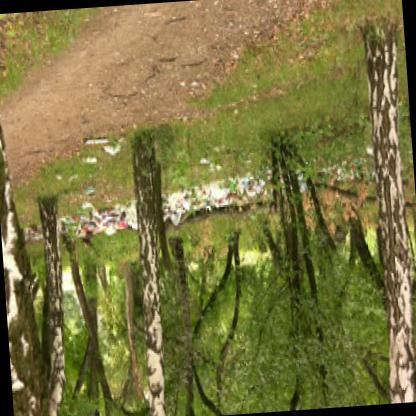Garbage: (162, 180, 274, 236), (58, 204, 136, 254), (80, 130, 130, 156), (104, 201, 126, 232), (166, 189, 196, 211), (210, 180, 235, 200), (236, 177, 252, 206), (82, 143, 100, 168), (206, 186, 230, 204), (90, 206, 110, 226), (335, 165, 356, 182), (246, 172, 264, 190), (166, 208, 183, 224), (104, 218, 119, 234), (78, 223, 90, 240), (82, 184, 96, 198), (202, 200, 216, 212)
